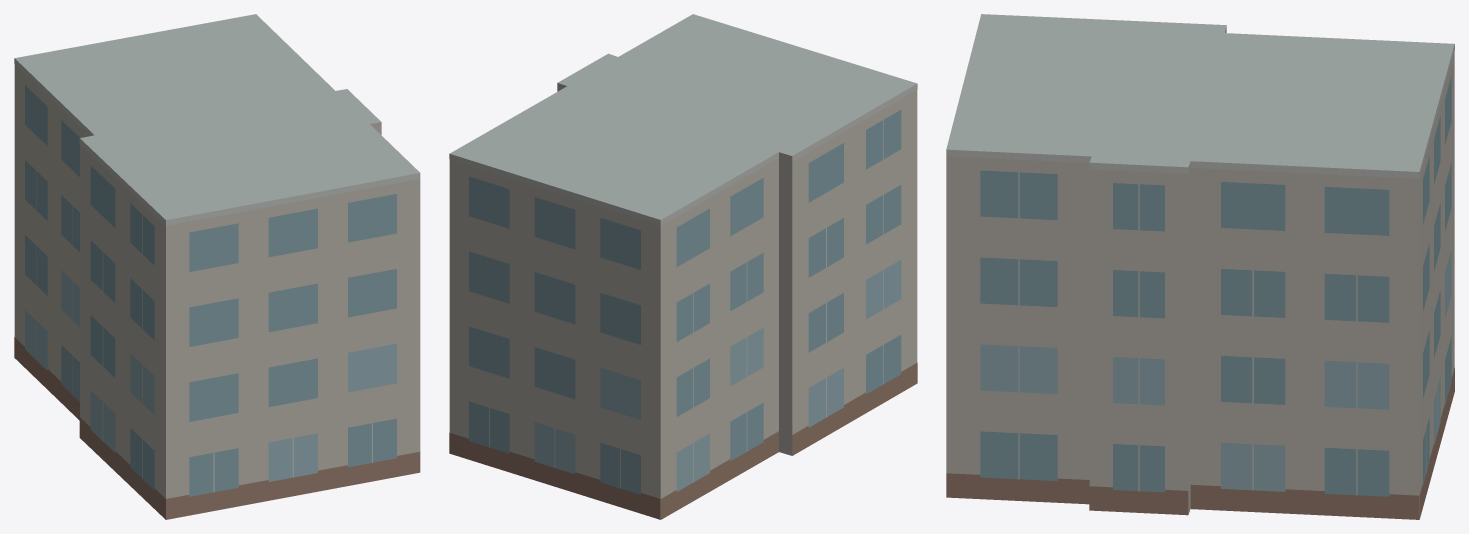
File: survey-upis-32500588.glb
3 views of the same model, side by side, from view 1: azimuth 30°, elevation 25°; view 2: azimuth 150°, elevation 25°; view 3: azimuth 270°, elevation 25° (orthographic). The views are drawn at different scales.
Visible parts, largest first — view 1: survey-upis-32500588.tmp; view 2: survey-upis-32500588.tmp; view 3: survey-upis-32500588.tmp.
Boxes of the visible parts, x1,y1,x2,y2 form: survey-upis-32500588.tmp: [14, 14, 420, 519]; survey-upis-32500588.tmp: [449, 14, 917, 519]; survey-upis-32500588.tmp: [946, 14, 1454, 519].
Size of the model in its own units: 12.38 by 12.7 by 16.84.
